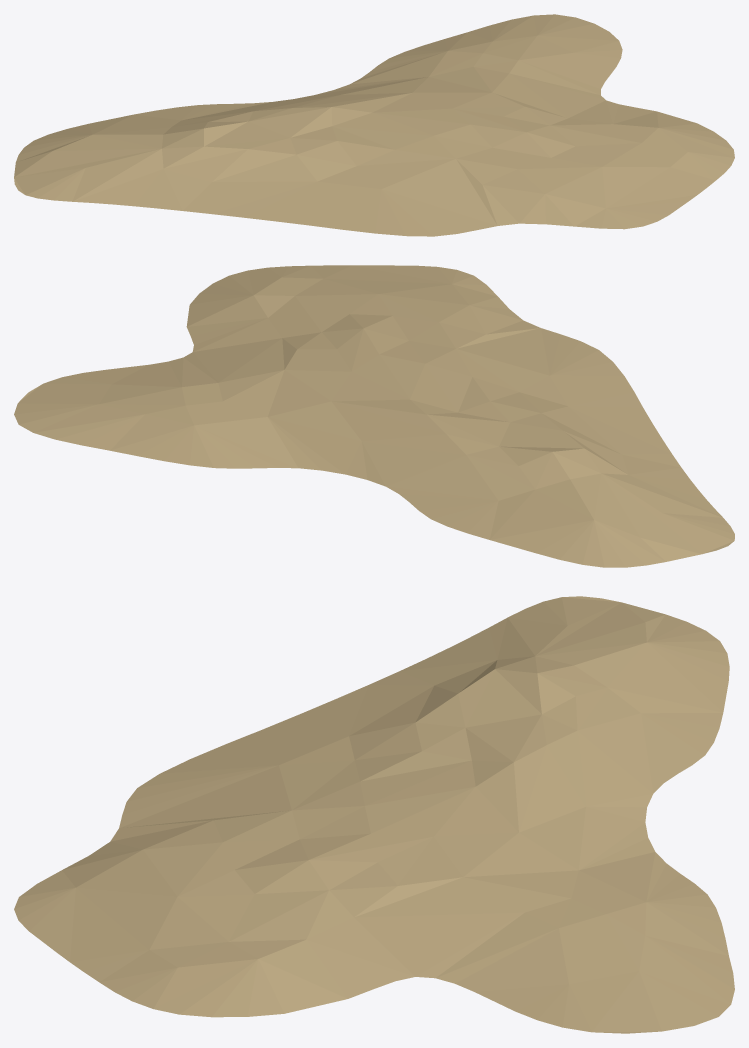
Rendered from SM_Env_Beach_Pile_01.glb.
3 views of the same model, one above another, from view 1: azimuth 30°, elevation 25°; view 2: azimuth 150°, elevation 25°; view 3: azimuth 270°, elevation 25° (orthographic). The views are drawn at different scales.
Parts seen in each view (by area): view 1: SM_Env_Beach_Pile_01_part00; view 2: SM_Env_Beach_Pile_01_part00; view 3: SM_Env_Beach_Pile_01_part00.
Boxes of the visible parts, box(x1,y1,x2,y2) form: SM_Env_Beach_Pile_01_part00: box(14, 14, 734, 236); SM_Env_Beach_Pile_01_part00: box(14, 265, 734, 567); SM_Env_Beach_Pile_01_part00: box(14, 596, 734, 1033).
Bounding box in the file's own units: 5.44 × 0.2759 × 3.8.
1 material, 1 textured.
